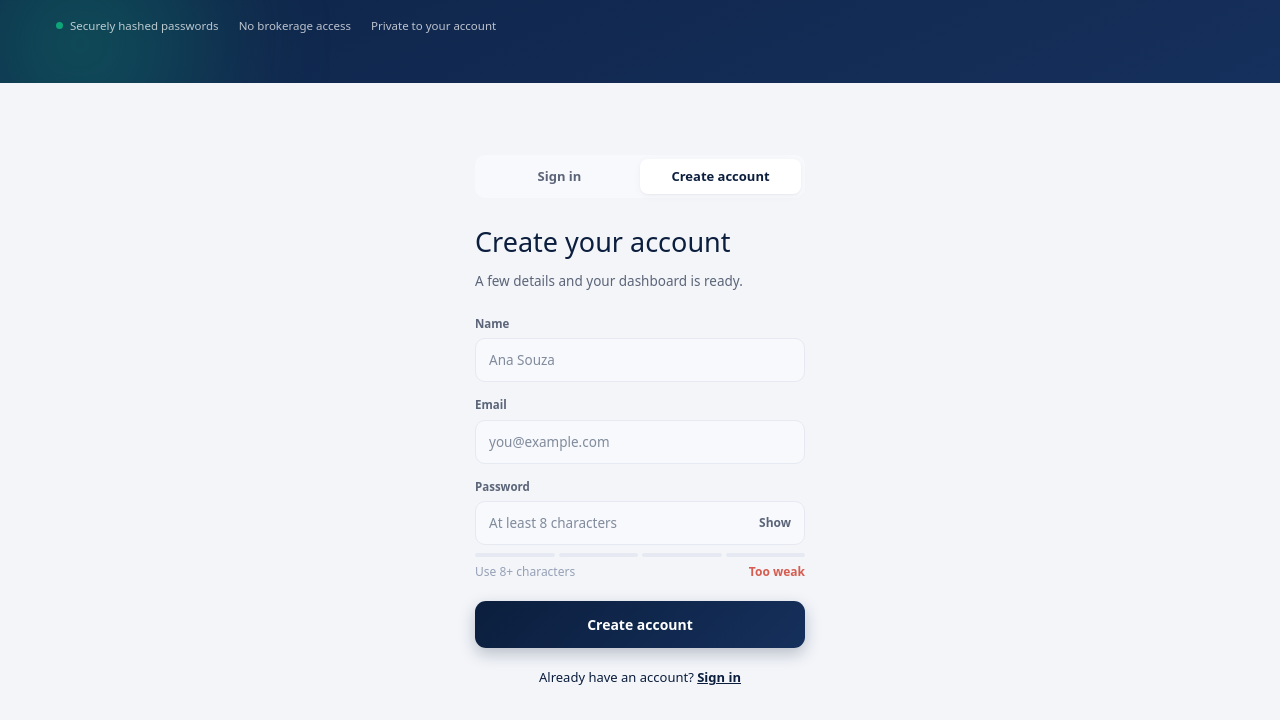
Test: AuthScreen (signup mode) › ApiError(429) shows the throttle message in the form alert
This screenshot has width=1280, height=720.
(page scrolled)
Step 1. Type "Ana" into the field labelled "Name" → [640, 360], box [475,338,805,382]
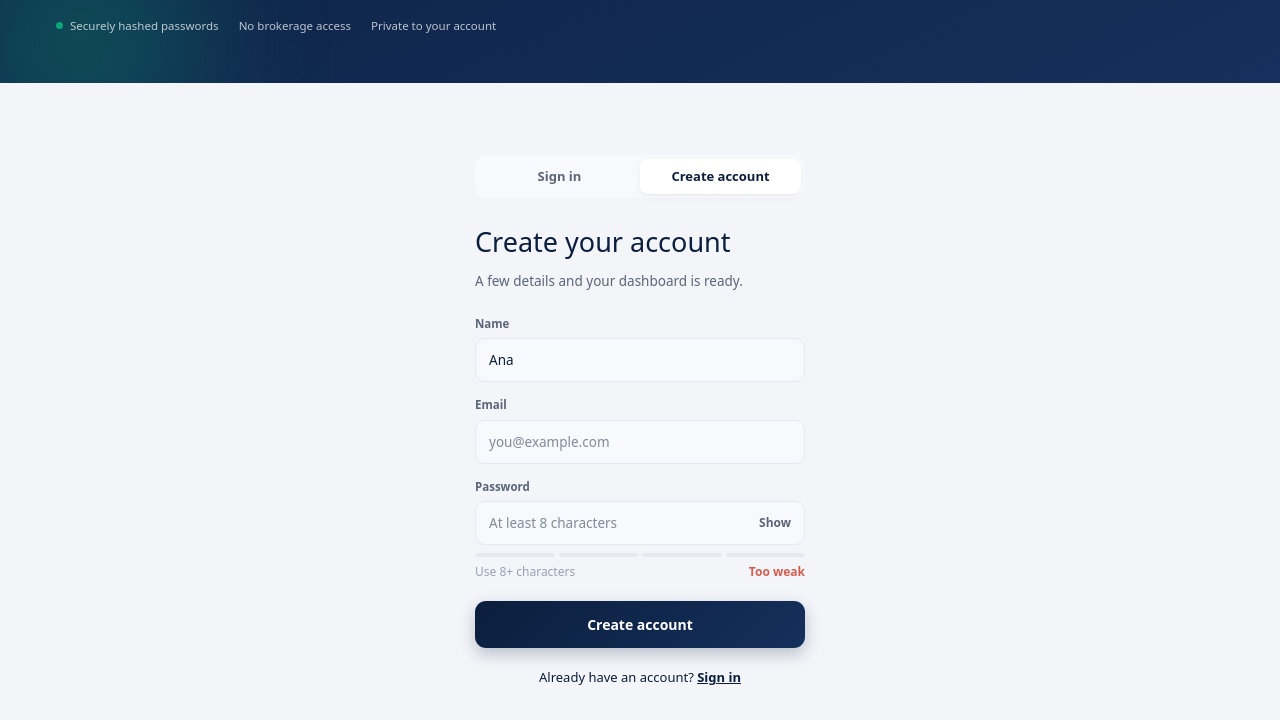
Step 2. Type "ana@example.com" into the field labelled "Email" → [640, 442], box [475,420,805,464]
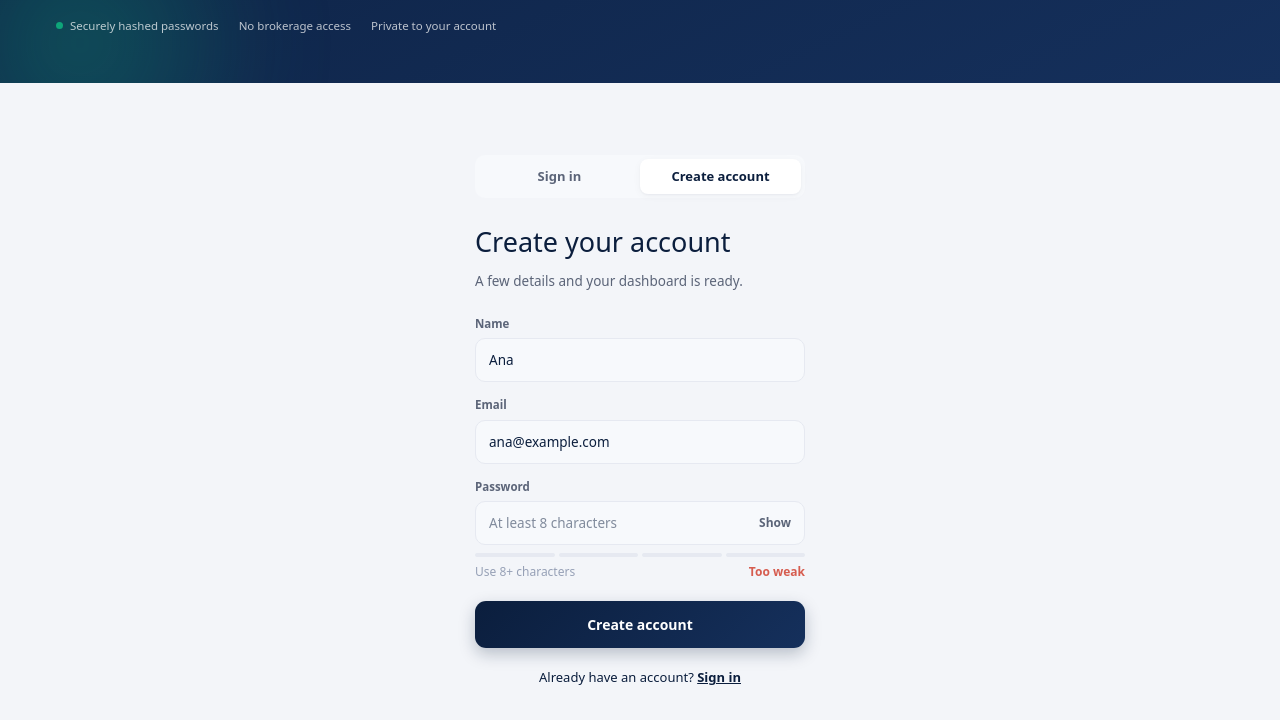
Step 3. Type "abcdefgh" into the password field labelled "Password" → [640, 523], box [475,501,805,545]
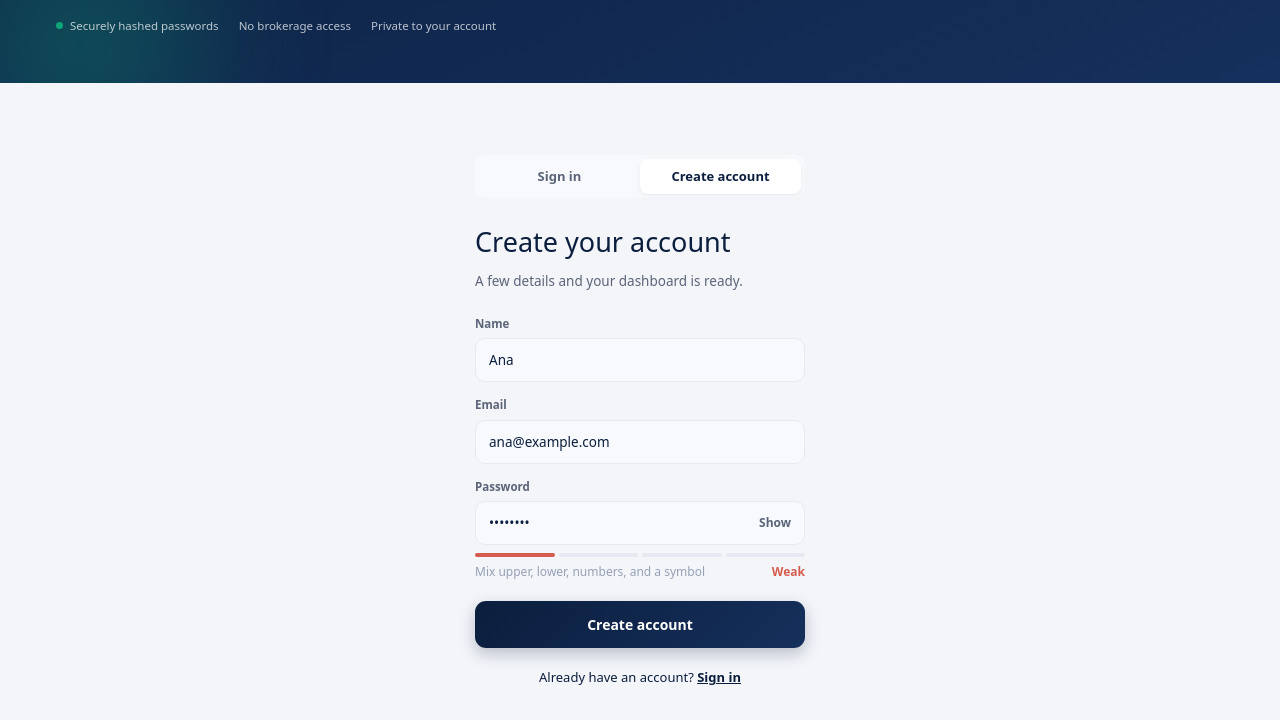
Step 4. Click the button "Create account" below "Mix upper, lower, numbers, and a symbol" → [640, 625], box [475,601,805,648]
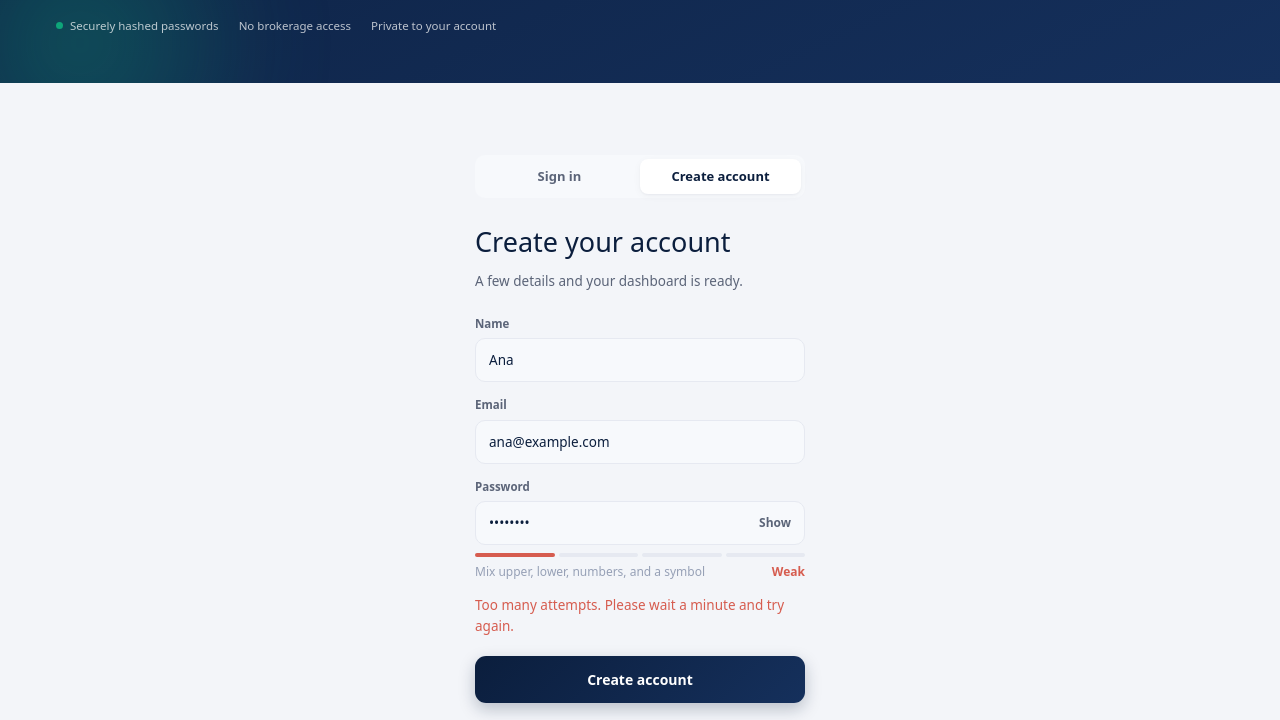
Now the message reads "Too many attempts. Please wait a minute and try again.", box [475,596,784,635]
